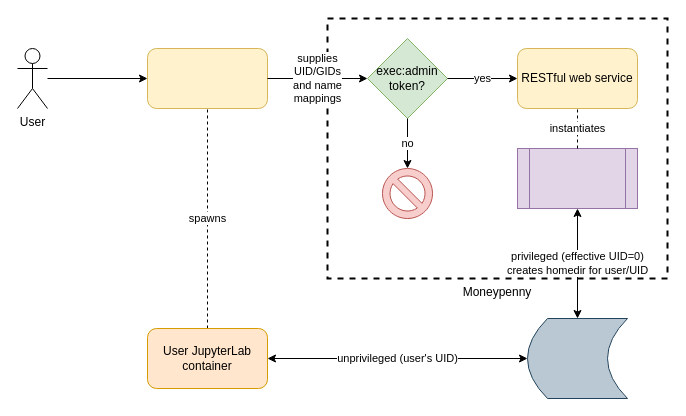
Some shapes in this 686 by 416 pixel diagram are drawn without their labels. The shapes that lost their labels are listed below. From the top down, each one's centre as x and y in pixels, then its label:
At (207,78): "JupyterHub".
At (577,178): "Privileged container".
At (577,358): "Storage".
